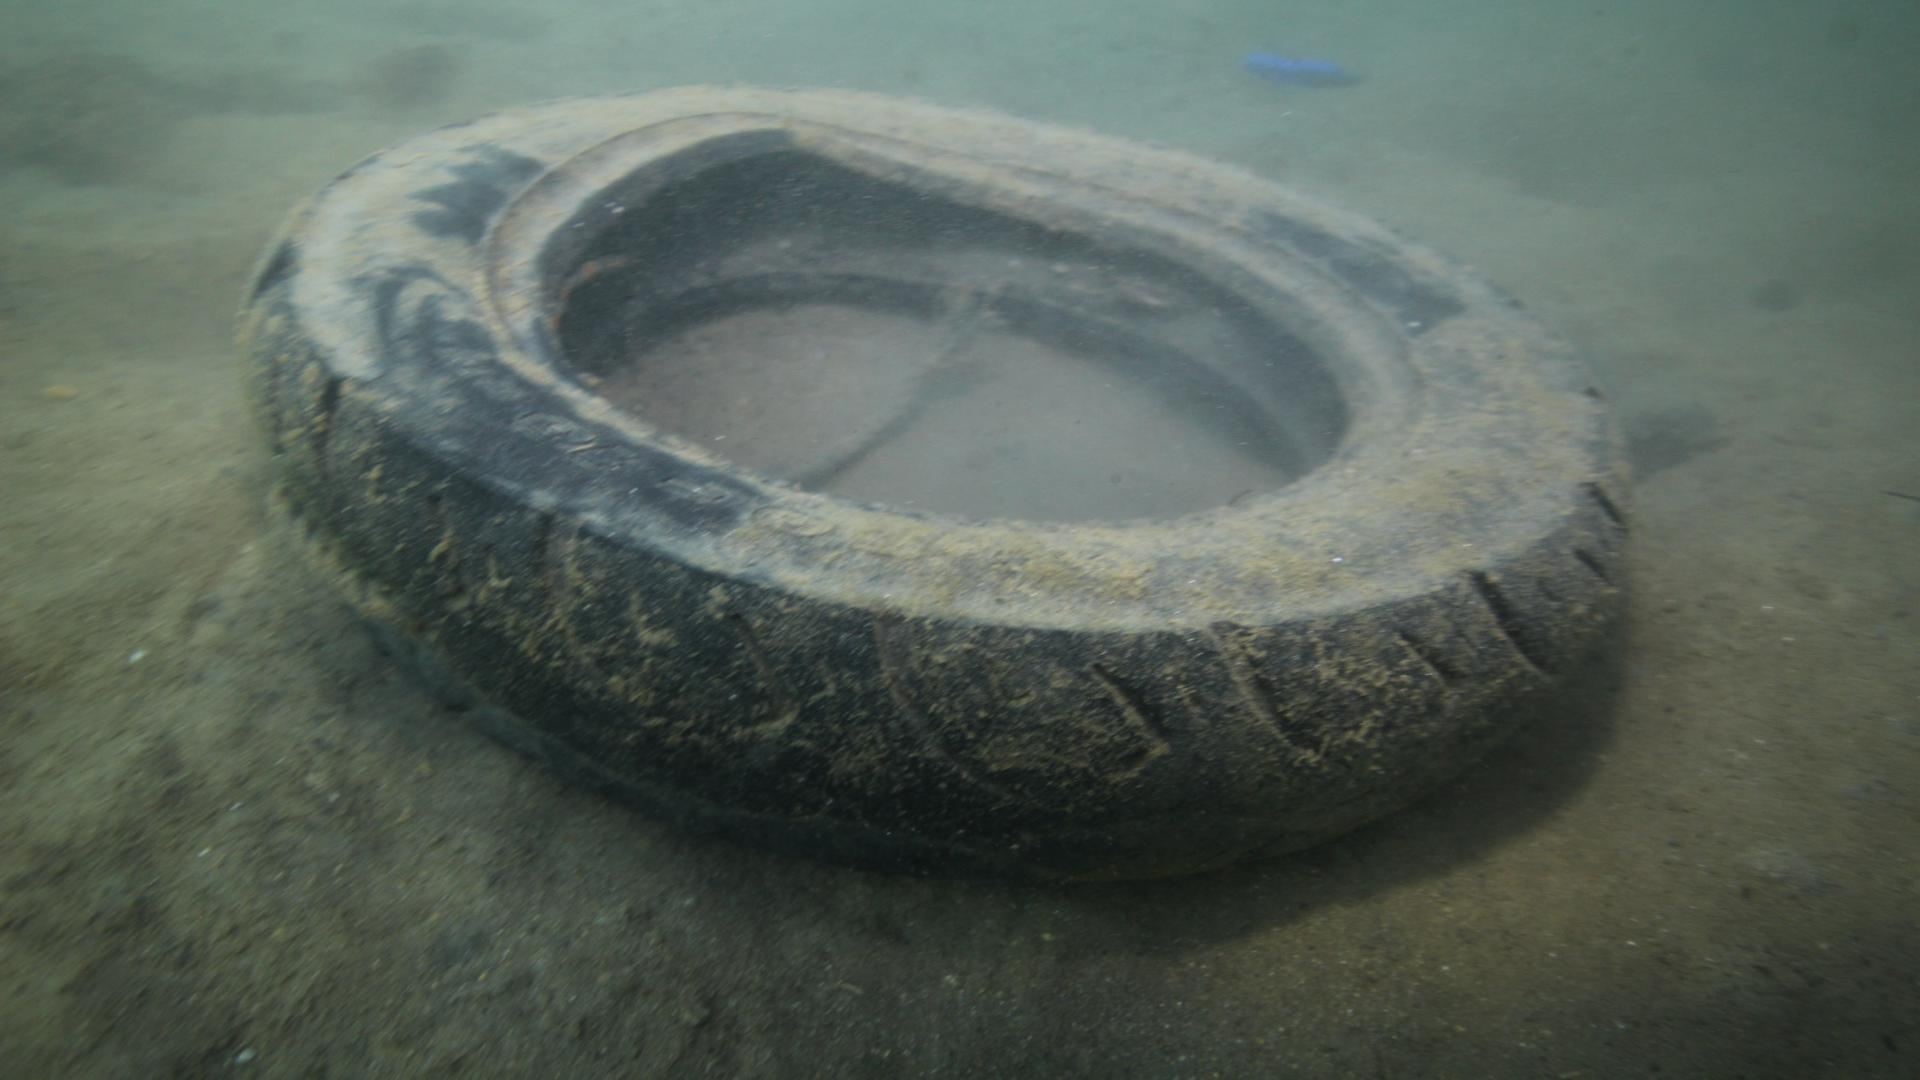rope: (767, 343, 947, 491)
tire: (235, 80, 1638, 887)
